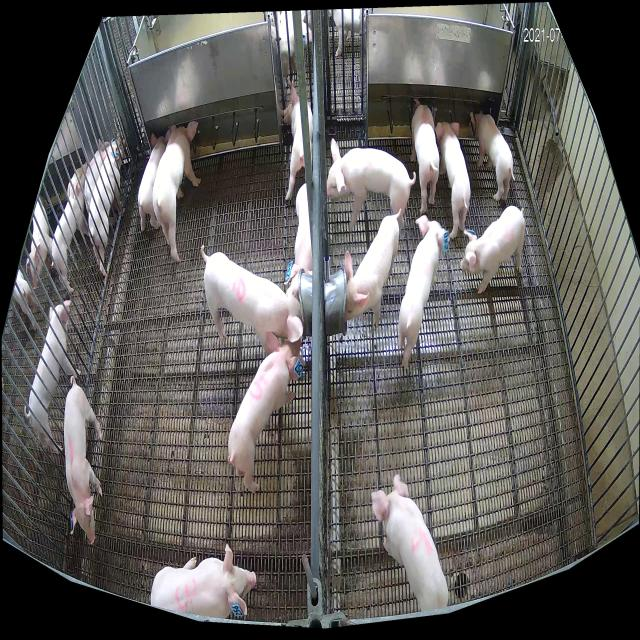pig: (227, 331, 306, 494), (201, 245, 303, 350), (372, 475, 449, 612), (326, 138, 416, 233), (151, 540, 256, 618), (398, 215, 446, 368), (153, 122, 202, 263), (345, 207, 401, 330), (64, 376, 102, 545), (460, 206, 524, 294), (469, 112, 515, 203), (435, 122, 470, 238), (283, 80, 313, 200), (410, 98, 440, 213), (283, 183, 312, 284), (138, 133, 167, 231)
